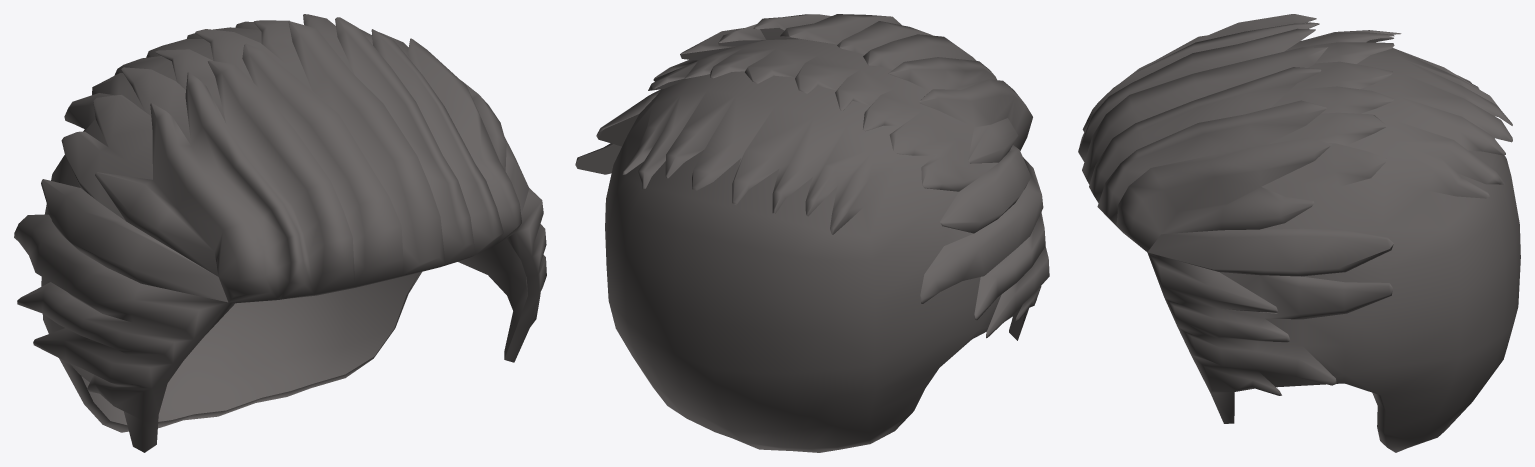
Rendered from Hair_13_04.fbx.
3 renders of one model, left to right at view 1: azimuth 30°, elevation 25°; view 2: azimuth 150°, elevation 25°; view 3: azimuth 270°, elevation 25°, orthographic. The views are drawn at different scales.
Visible parts, largest first — view 1: Hair_13_04; view 2: Hair_13_04; view 3: Hair_13_04.
Part boxes in pixels (<box>): Hair_13_04: <box>14,14,546,452</box>; Hair_13_04: <box>575,14,1049,452</box>; Hair_13_04: <box>1078,14,1520,452</box>.
Size of the model in its own units: 41.2 by 37.07 by 38.65.
